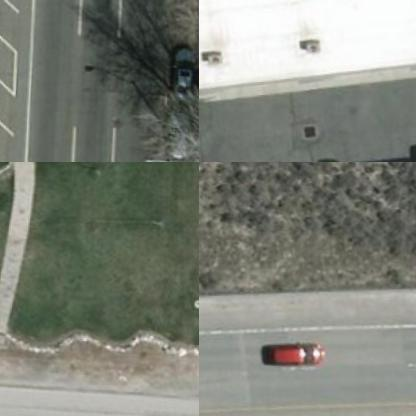car: (162, 40, 196, 96), (160, 103, 192, 161), (271, 334, 323, 366)
